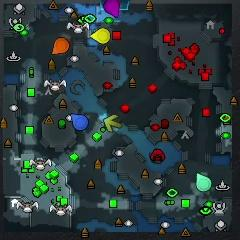p1: (71, 113, 89, 130)
p2: (196, 172, 211, 191)
p3: (104, 0, 119, 18)
p4: (90, 28, 110, 44)
p5: (53, 38, 70, 54)
x2: (104, 114, 121, 132)
